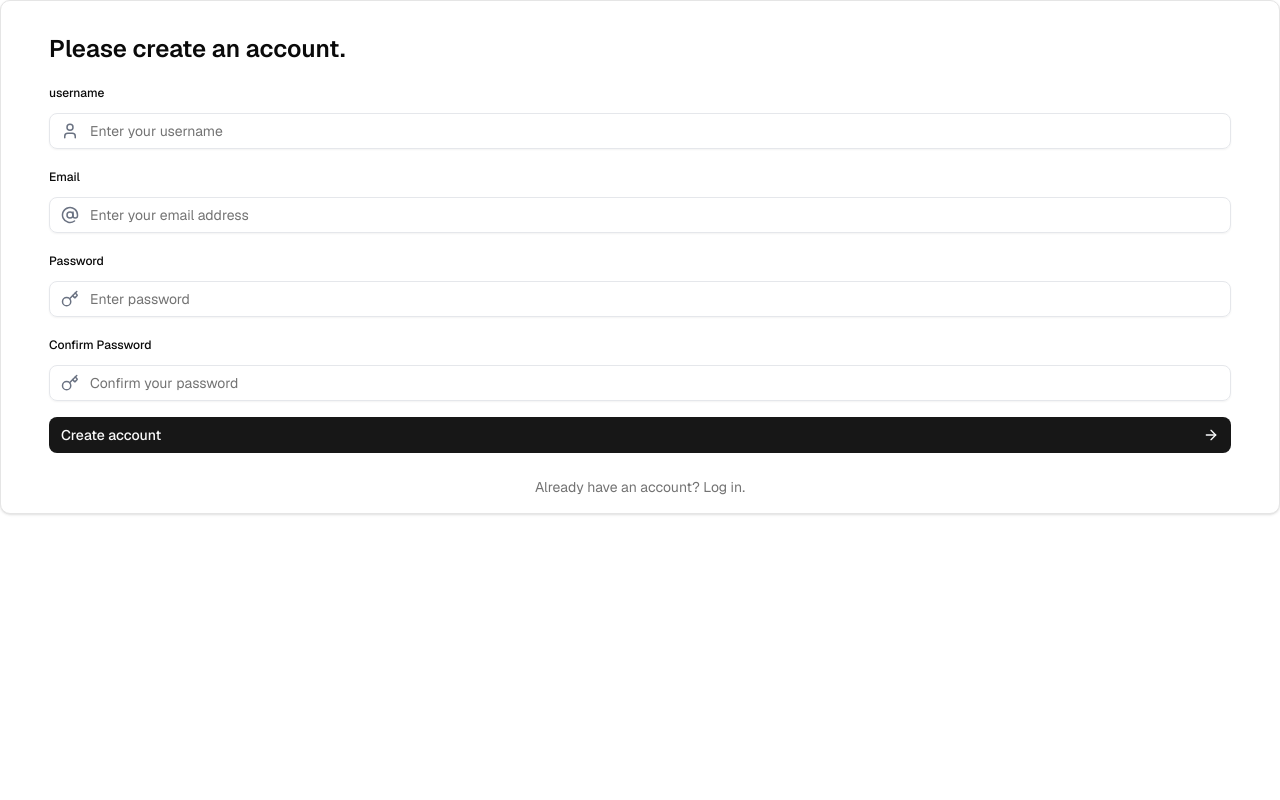
Test: SignUpForm › validates password confirmation
# Fill in form with mismatched passwords
Step 1. Type "testuser" into the field labelled "username" → (640, 131), box top-left (49, 113), bottom-right (1231, 149)
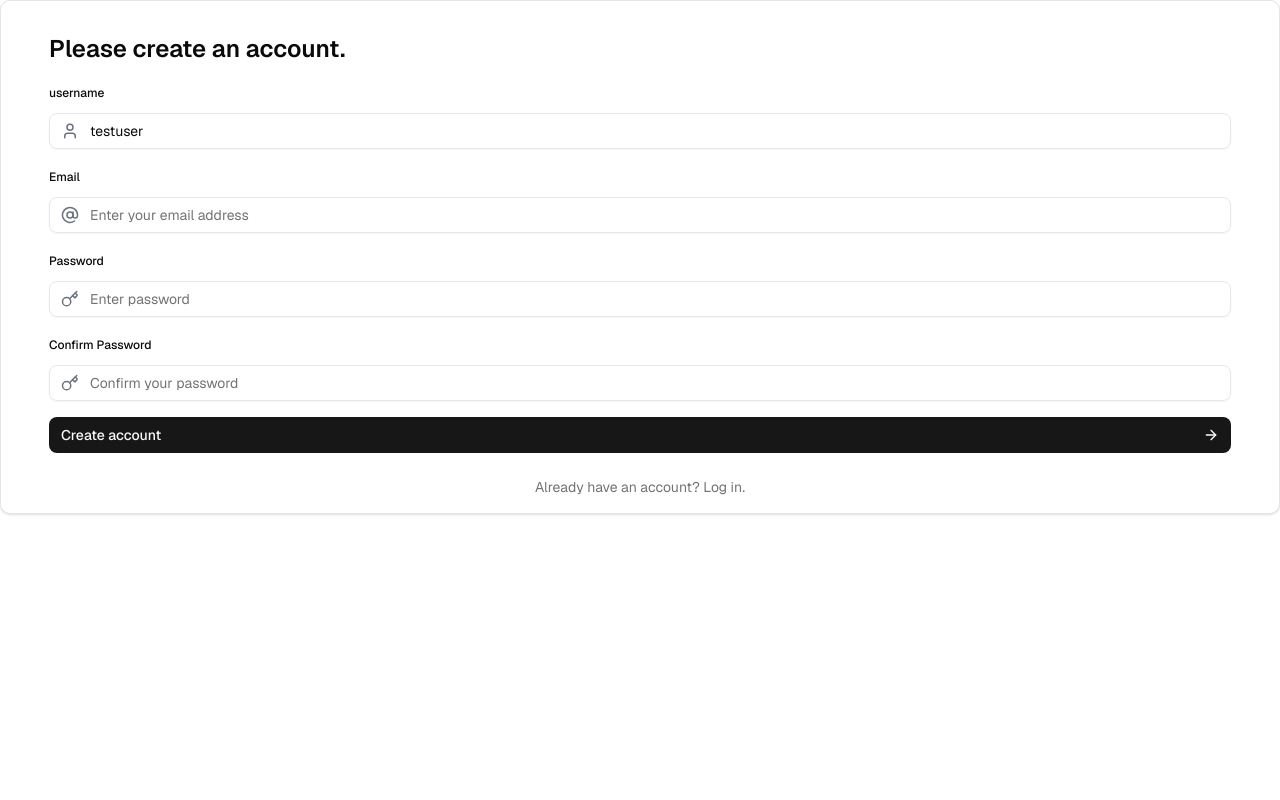
Step 2. Type "john@example.com" into the field labelled "Email" → (640, 215), box top-left (49, 197), bottom-right (1231, 233)
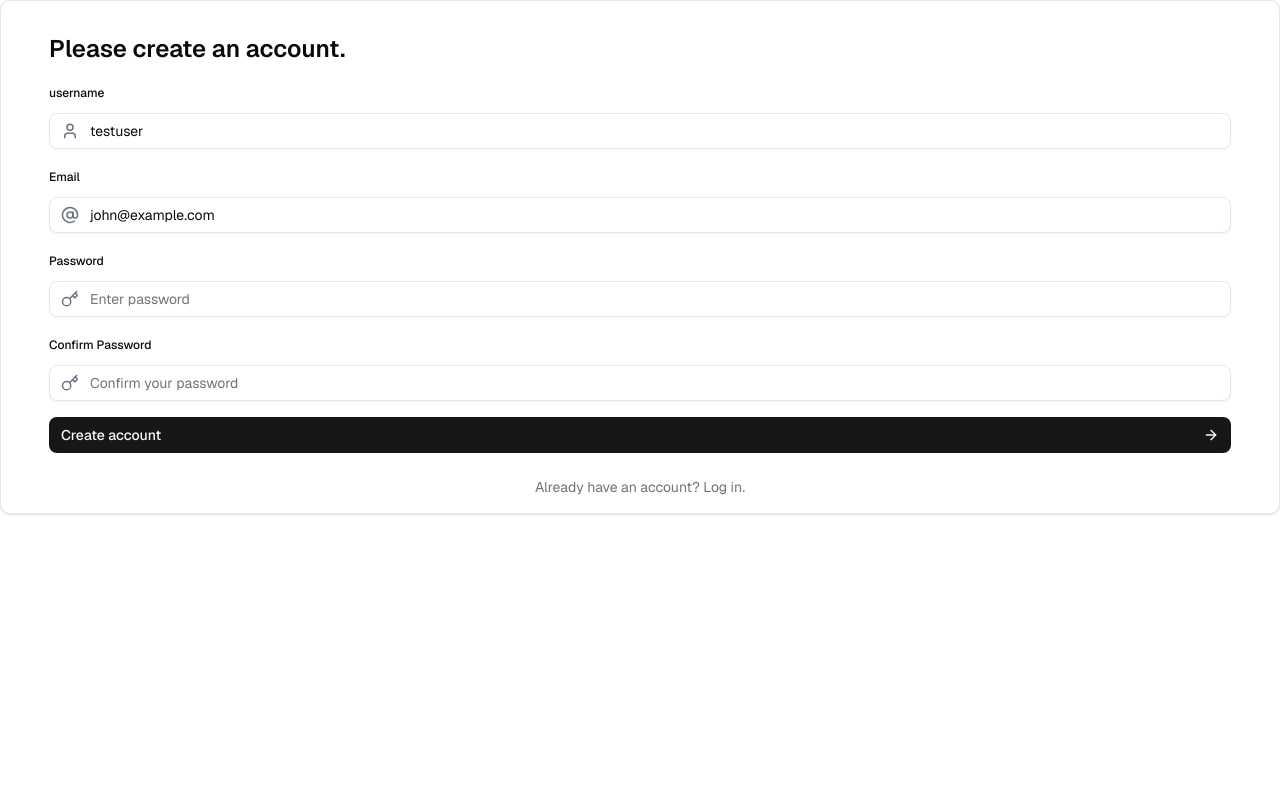
Step 3. Type "Password123!@#" into the password field labelled "Password" → (640, 299), box top-left (49, 281), bottom-right (1231, 317)
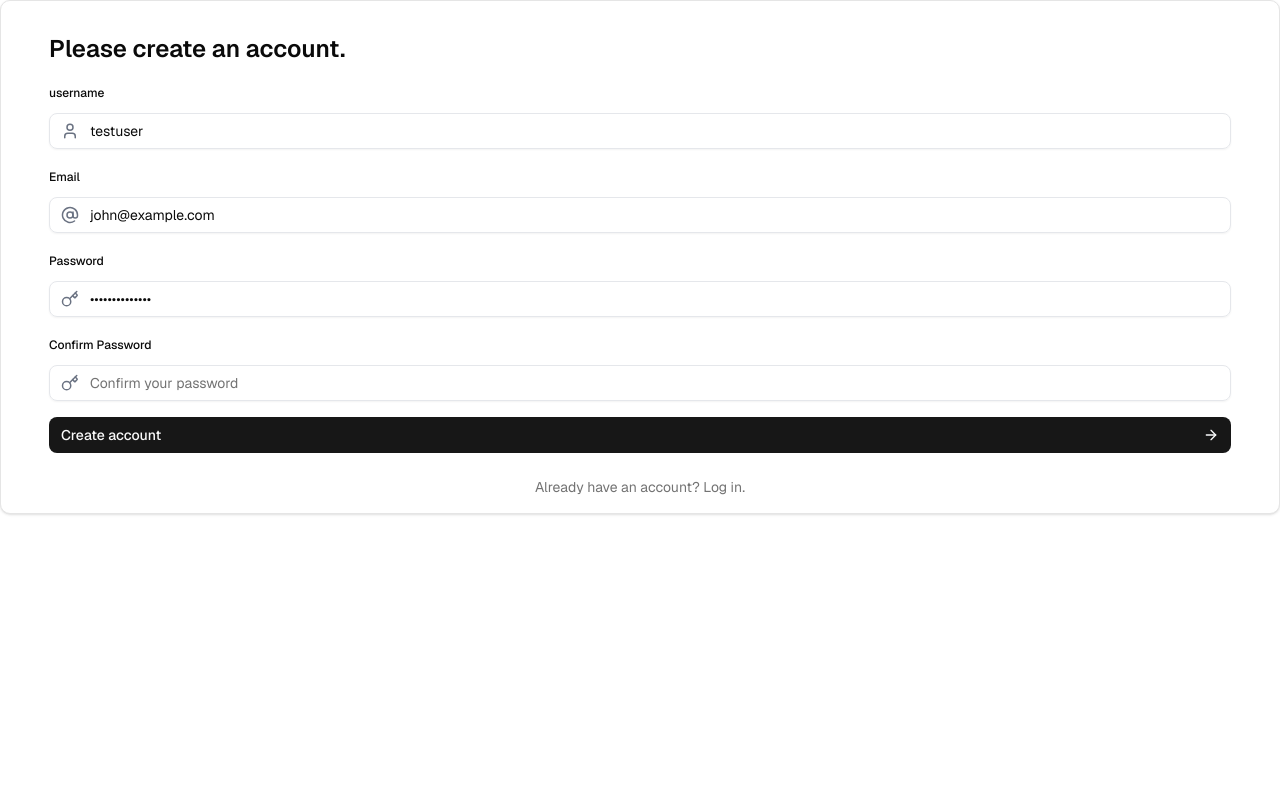
Step 4. Type "DifferentPassword!" into the password field labelled "Confirm Password" → (640, 383), box top-left (49, 365), bottom-right (1231, 401)
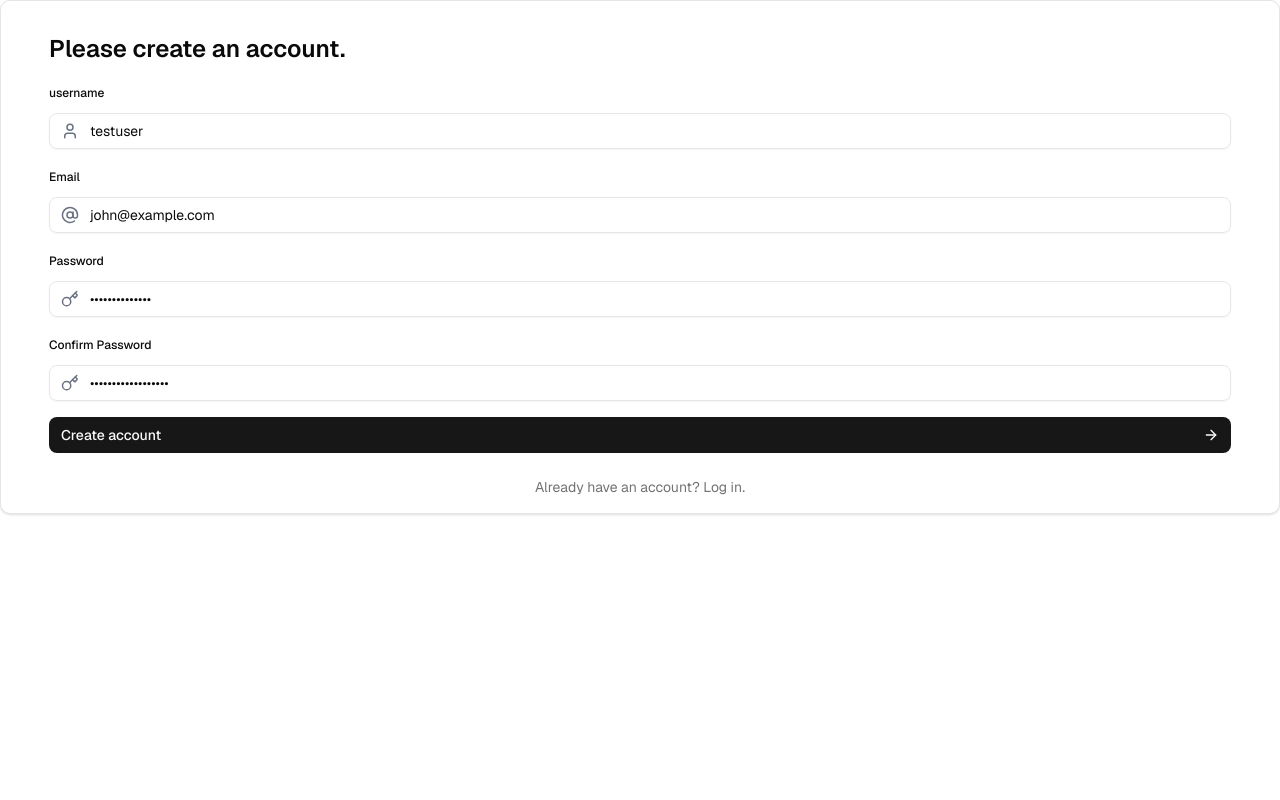
Step 5. Click the button "Create account" → (111, 435), box top-left (49, 417), bottom-right (1231, 453)
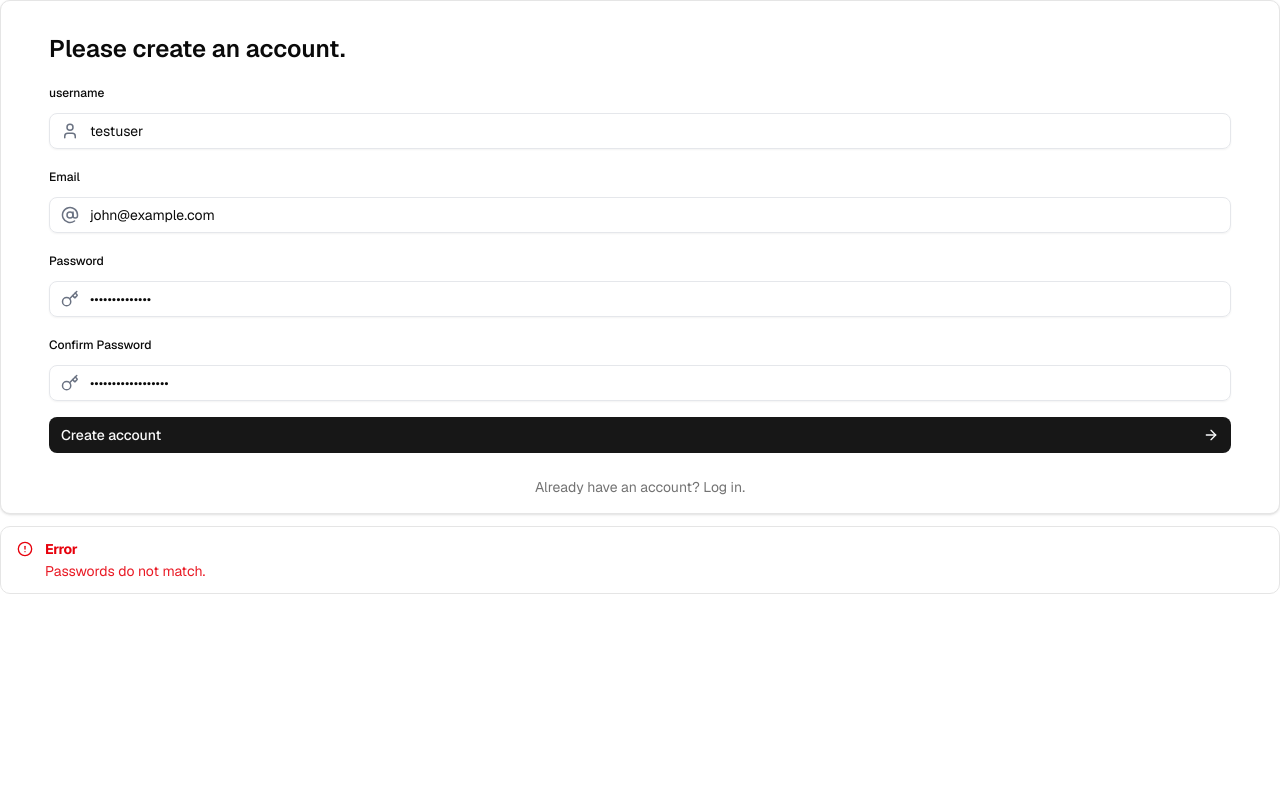
Result: the text "Passwords do not match." is shown at top-left (45, 561), bottom-right (205, 581)
